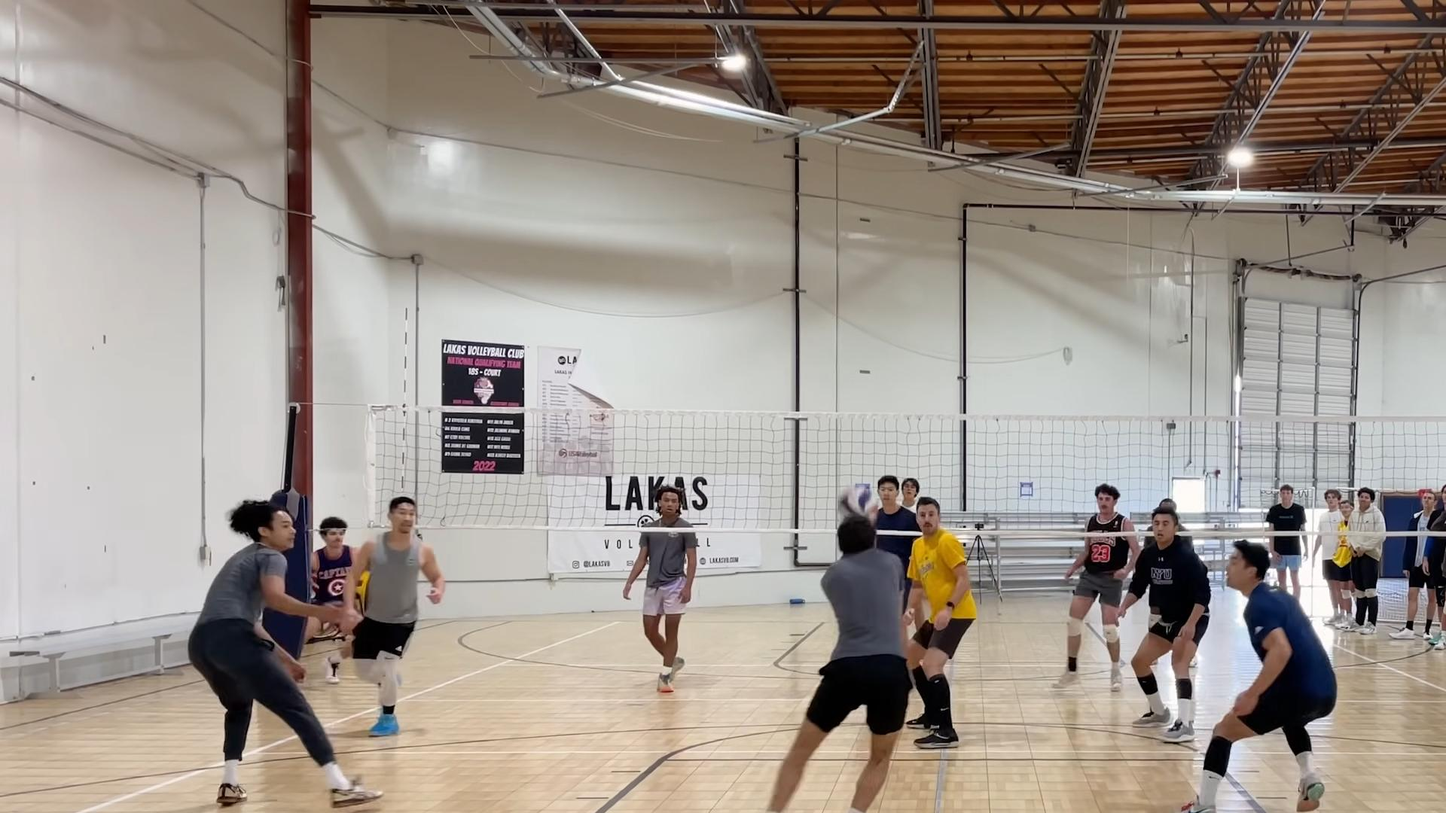ricezione: (734, 488, 935, 813)
